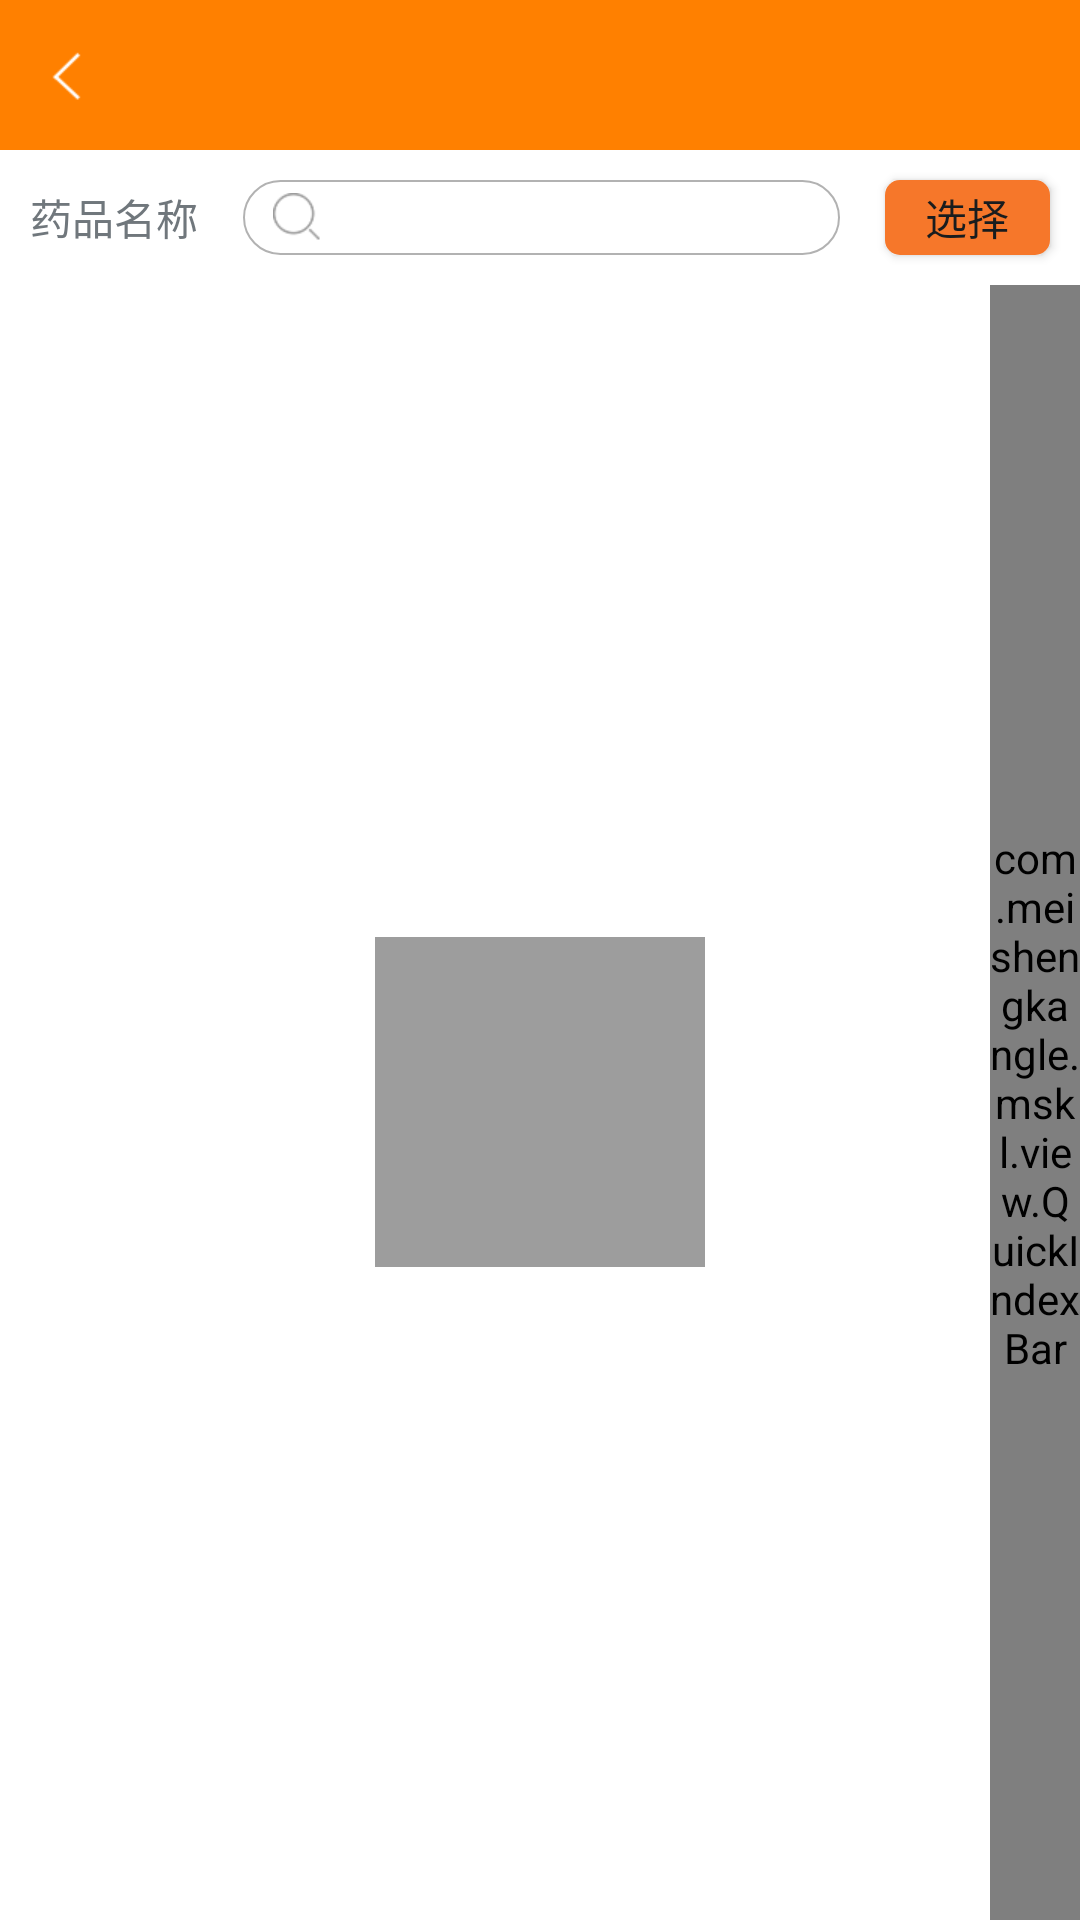

Point at icon controls on the screen. Image size 1080px x 1920px, points as (x=x, y=y).
title back: (x=67, y=76)
